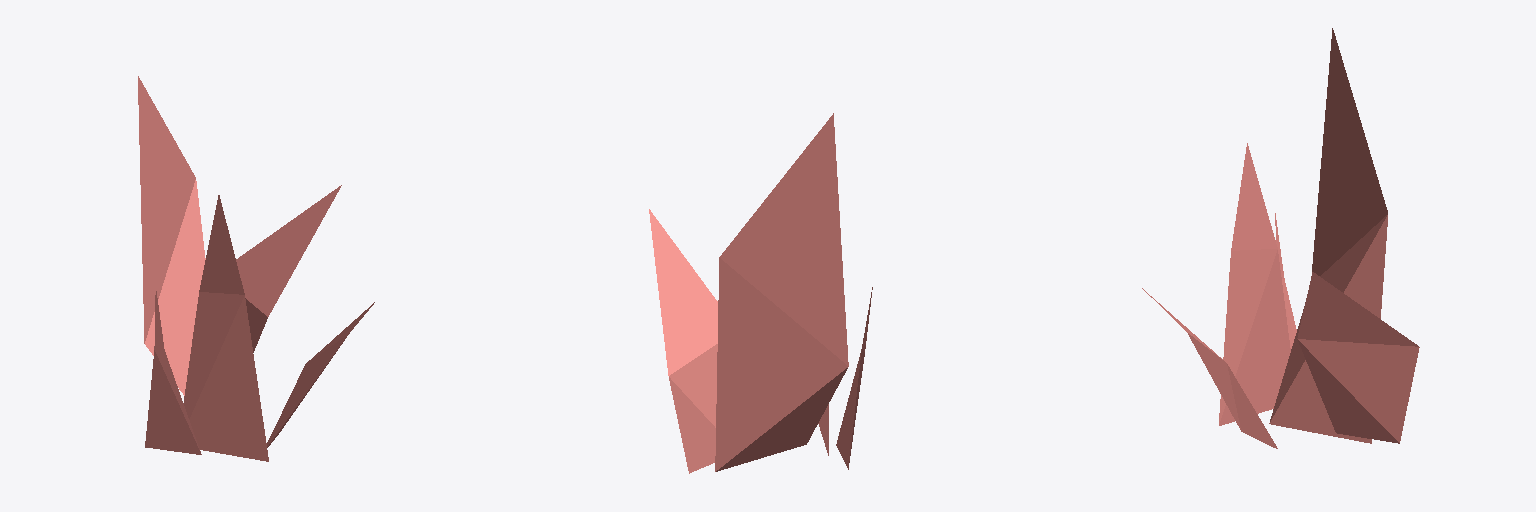
Rendered from Area 5 Grass Mesh.obj.
3 views of the same model, side by side, from view 1: azimuth 30°, elevation 25°; view 2: azimuth 150°, elevation 25°; view 3: azimuth 270°, elevation 25° (orthographic).
Visible parts, largest first — view 1: Area 5 Grass Mesh; view 2: Area 5 Grass Mesh; view 3: Area 5 Grass Mesh.
Part boxes in pixels (x1,y1,x2,y2): Area 5 Grass Mesh: (138, 76, 374, 461); Area 5 Grass Mesh: (649, 113, 872, 473); Area 5 Grass Mesh: (1142, 28, 1419, 448).
Size of the model in its own units: 0.922 by 1.58 by 1.08.